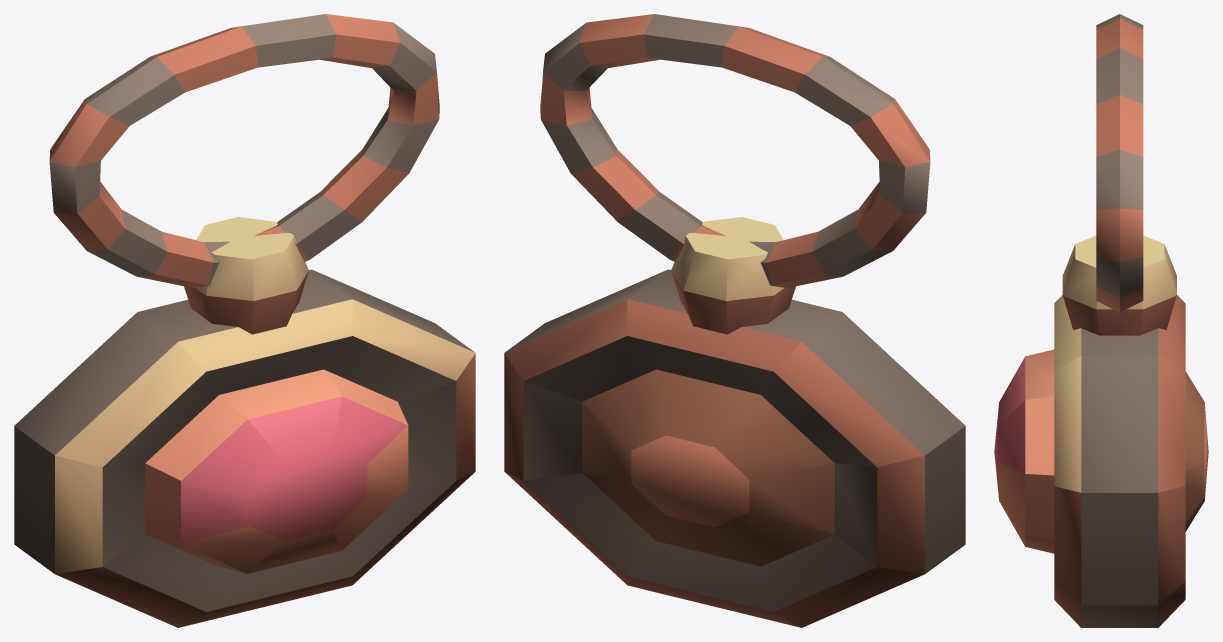
Rendered from amulet_wood_coral.glb.
3 views of the same model, side by side, from view 1: azimuth 30°, elevation 25°; view 2: azimuth 150°, elevation 25°; view 3: azimuth 270°, elevation 25° (orthographic). The views are drawn at different scales.
Visible parts, largest first — view 1: Item; view 2: Item; view 3: Item.
Boxes of the visible parts, left/top/right/bottom form: Item: left=14, top=14, right=475, bottom=627; Item: left=504, top=14, right=965, bottom=627; Item: left=994, top=14, right=1208, bottom=627.
Bounding box in the file's own units: 0.56 × 0.72 × 0.26.
Materials: 2 (2 with a texture image).
